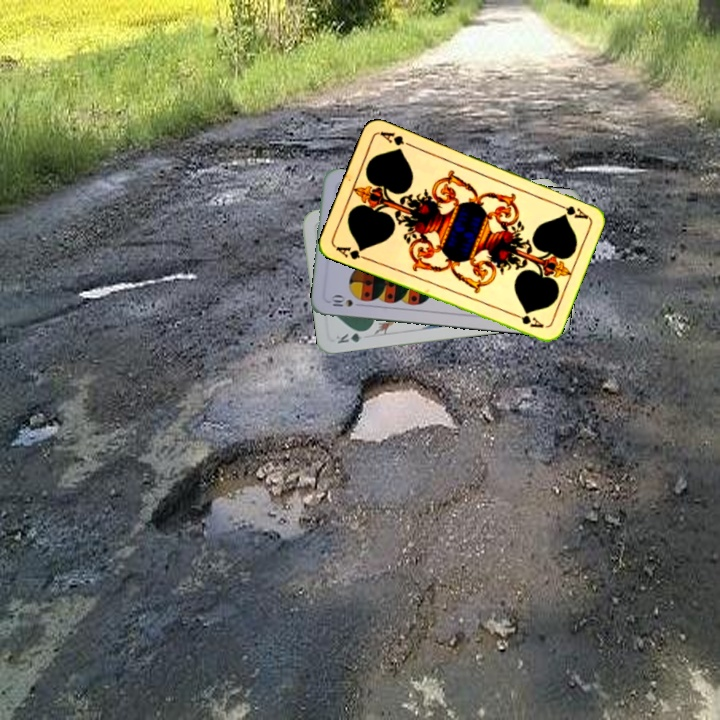GA: (551, 199, 591, 222), (331, 242, 371, 263)
GK: (332, 326, 371, 346)
S10: (325, 292, 356, 309)
